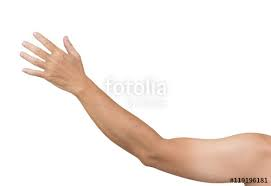hand: (12, 21, 106, 102)
